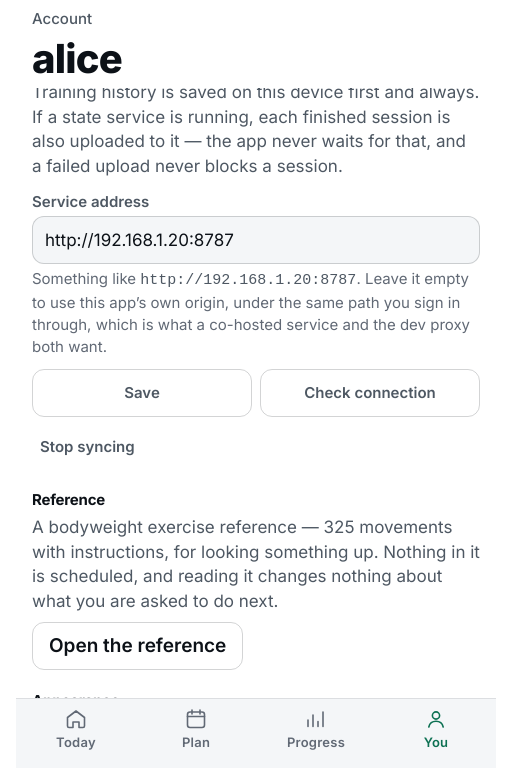
the connection check › reports a service that cannot be reached, and blocks nothing
(page scrolled)
Click the button "Check connection": (370, 393) [260,369,480,417]
(page scrolled)
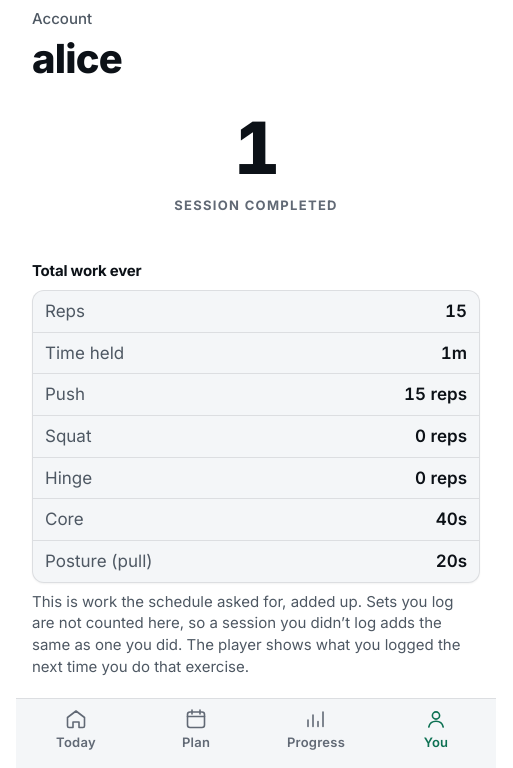
Expected: the heading "Total work ever" is shown, [32,261,141,280]
